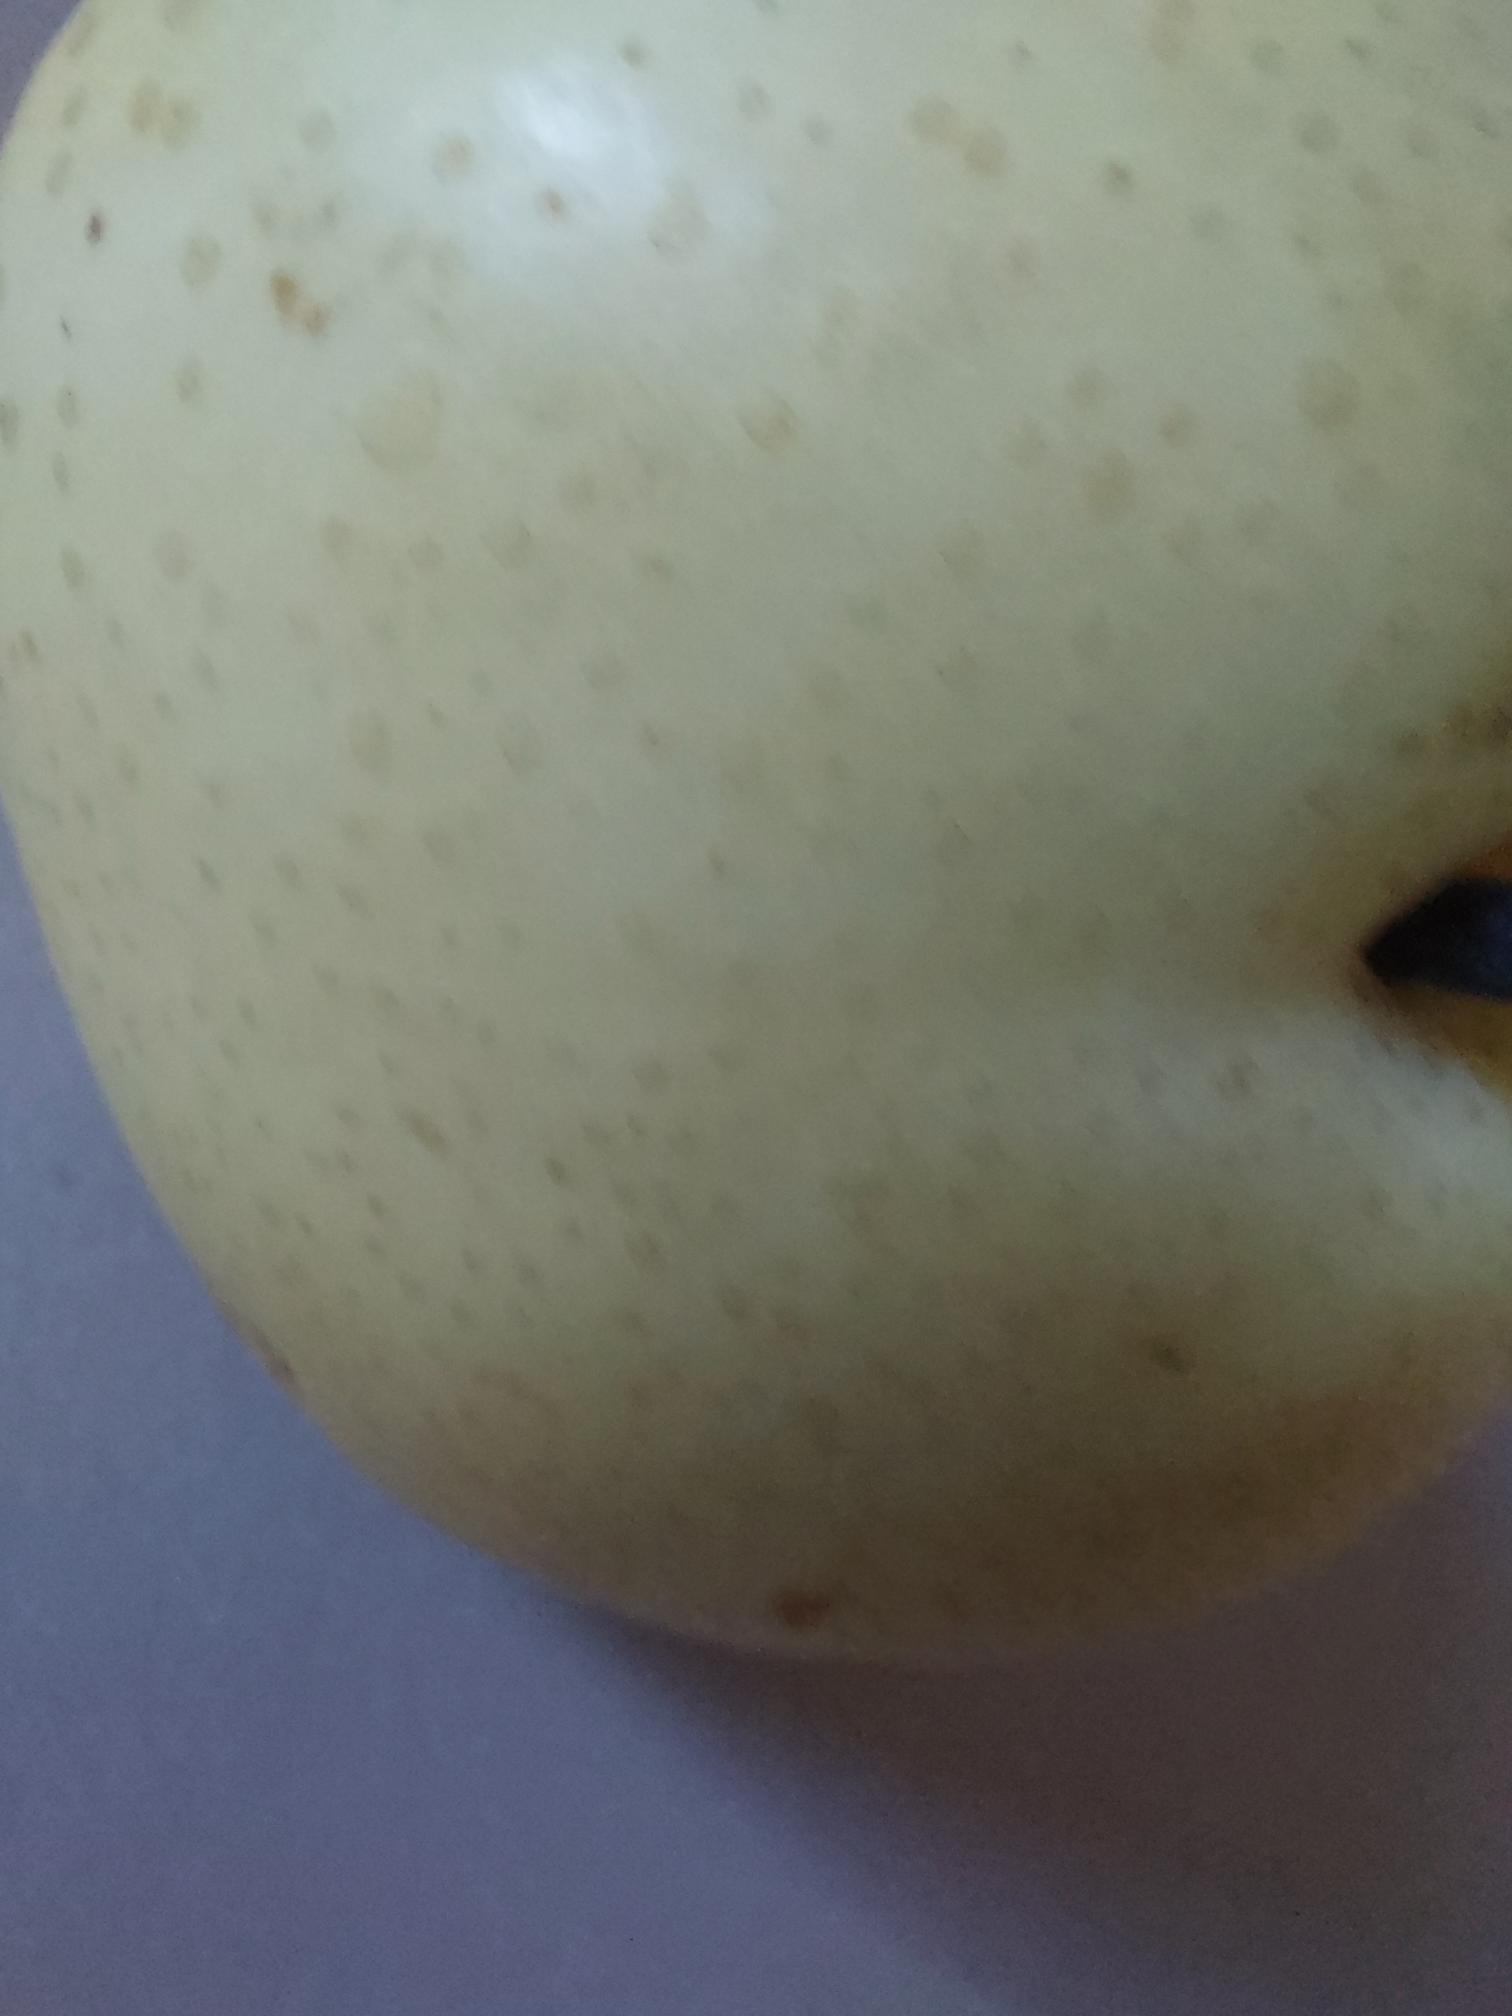Good Pear: (0, 0, 1512, 1686)
